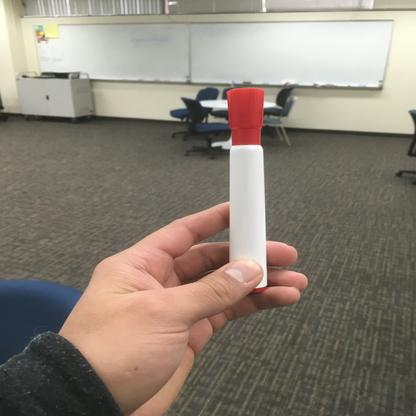expo_marker: (205, 84, 289, 303)
